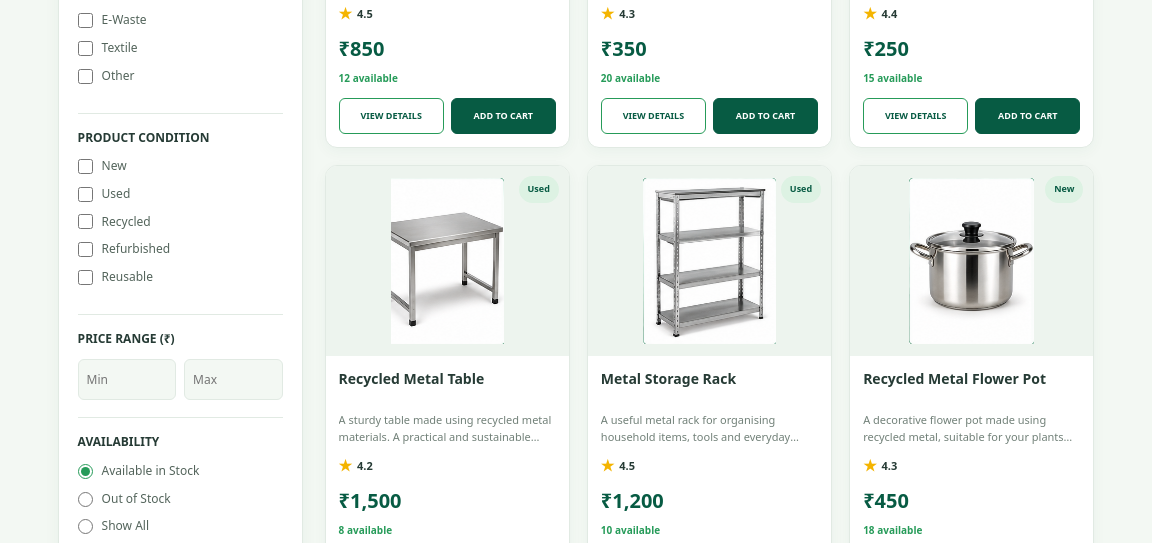
Test case: SearchResults Component › resets availability when filters are cleared
(page scrolled)
What coordinates should you click on to do the following:
click the radio button labelled "Show All"
I would click on:
 (85, 527)
Its box is top-left (78, 520), bottom-right (93, 534).
(page scrolled)
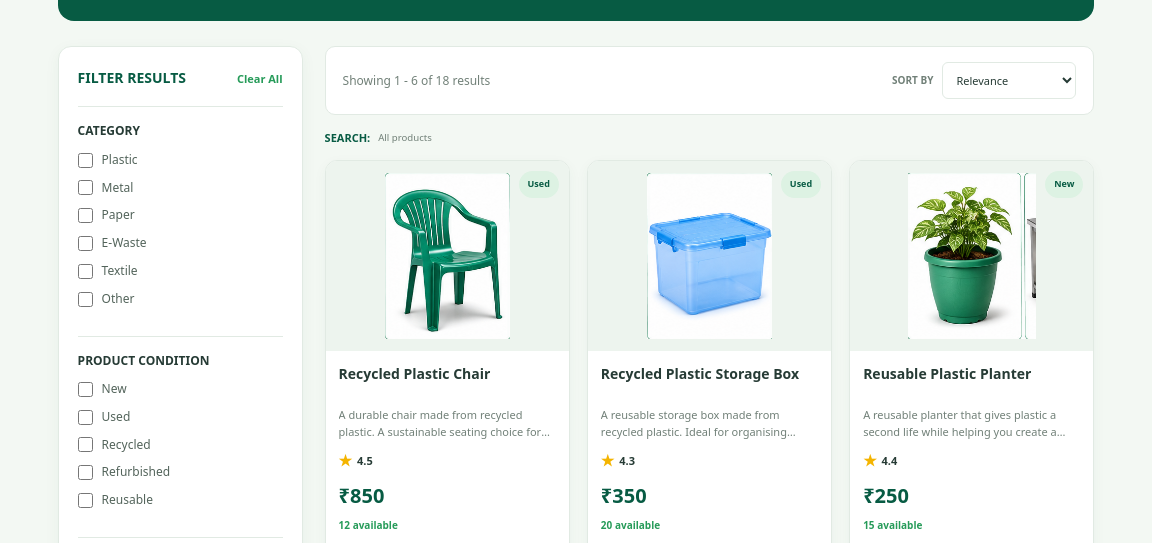
What coordinates should you click on to do the following:
click the button "Clear All"
I would click on:
 (260, 79)
Its box is top-left (237, 66), bottom-right (283, 91).
(page scrolled)
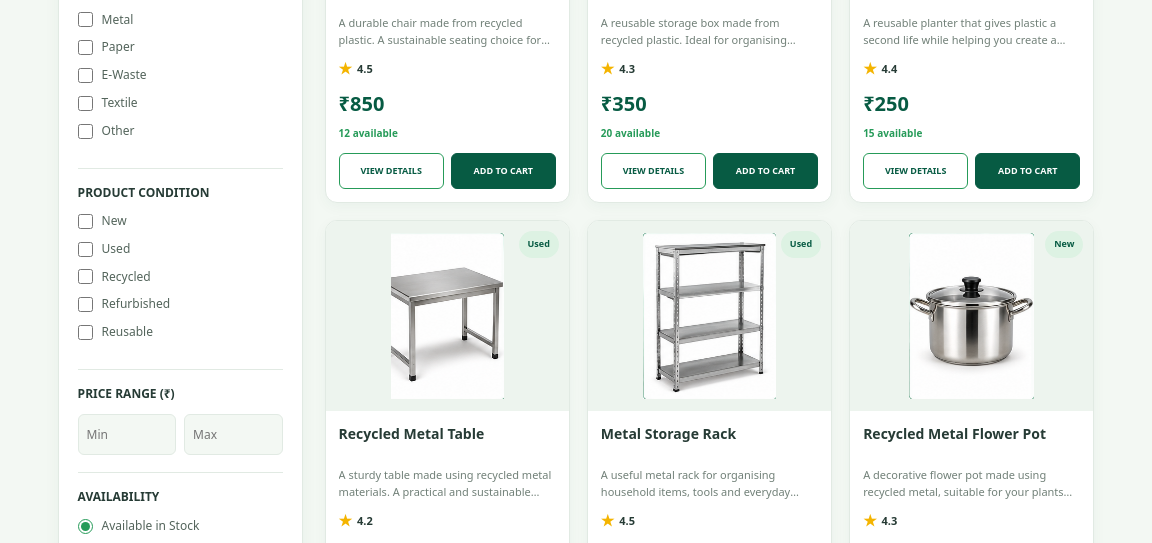
expect the radio button labelled "Available in Stock" is checked: met, box top-left (78, 519), bottom-right (93, 534)
